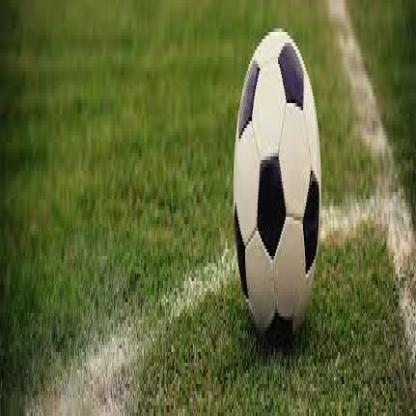ball: (233, 26, 322, 351)
